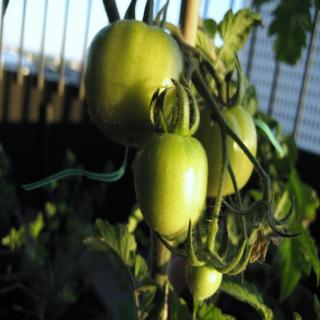tomato: (85, 0, 187, 149), (193, 49, 255, 194), (134, 131, 206, 241), (155, 220, 251, 302)
